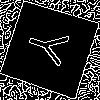Y: (24, 24, 79, 71)
